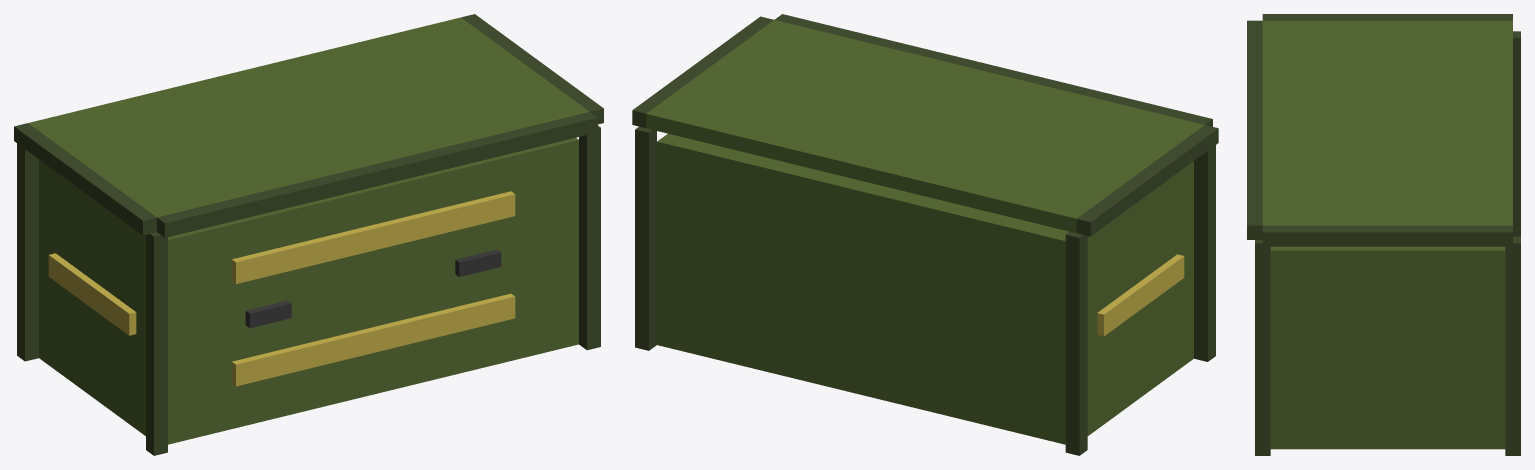
Rendered from ammo-crate.glb.
The picture shows the model from 3 angles, left to right: view 1: azimuth 30°, elevation 25°; view 2: azimuth 150°, elevation 25°; view 3: azimuth 270°, elevation 25°; orthographic projection. The views are drawn at different scales.
Visible parts, largest first — view 1: Mesh_Crate, Mesh_LidMesh, Mesh_LidEdgeFront, Mesh_MarkingTop, Mesh_MarkingBottom, Mesh_ReinforcementFL, Mesh_ReinforcementFR, Mesh_ReinforcementBL, Mesh_LidEdgeLeft, Mesh_MarkingSideLeft, Mesh_LidEdgeRight, Mesh_ClaspRight (+1 smaller); view 2: Mesh_Crate, Mesh_LidMesh, Mesh_ReinforcementBL, Mesh_ReinforcementBR, Mesh_ReinforcementFL, Mesh_LidEdgeLeft, Mesh_LidEdgeFront, Mesh_MarkingSideLeft, Mesh_LidEdgeRight; view 3: Mesh_LidMesh, Mesh_Crate, Mesh_LidEdgeRight, Mesh_LidEdgeFront, Mesh_ReinforcementBR, Mesh_ReinforcementFR, Mesh_LidEdgeLeft, Mesh_ReinforcementBL.
Part boxes in pixels (x1,y1,x2,y2): Mesh_Crate: (39, 138, 578, 444); Mesh_LidMesh: (28, 17, 589, 217); Mesh_LidEdgeFront: (157, 112, 597, 237); Mesh_MarkingTop: (231, 191, 515, 283); Mesh_MarkingBottom: (231, 293, 515, 386); Mesh_ReinforcementFL: (146, 232, 167, 455); Mesh_ReinforcementFR: (579, 126, 600, 350); Mesh_ReinforcementBL: (17, 143, 38, 361); Mesh_LidEdgeLeft: (14, 123, 156, 235); Mesh_MarkingSideLeft: (48, 253, 136, 335); Mesh_LidEdgeRight: (461, 14, 603, 124); Mesh_ClaspRight: (455, 249, 501, 276); Mesh_Crate: (657, 133, 1193, 444); Mesh_LidMesh: (646, 20, 1204, 233); Mesh_ReinforcementBL: (1065, 231, 1087, 455); Mesh_ReinforcementBR: (635, 126, 656, 350); Mesh_ReinforcementFL: (1194, 145, 1215, 361); Mesh_LidEdgeLeft: (1076, 125, 1218, 236); Mesh_LidEdgeFront: (774, 14, 1212, 126); Mesh_MarkingSideLeft: (1097, 254, 1184, 336); Mesh_LidEdgeRight: (632, 16, 773, 128); Mesh_LidMesh: (1262, 20, 1512, 225); Mesh_Crate: (1270, 246, 1505, 449); Mesh_LidEdgeRight: (1262, 225, 1512, 246); Mesh_LidEdgeFront: (1247, 20, 1262, 239); Mesh_ReinforcementBR: (1505, 236, 1520, 455); Mesh_ReinforcementFR: (1255, 240, 1270, 455); Mesh_LidEdgeLeft: (1262, 14, 1512, 20); Mesh_ReinforcementBL: (1513, 31, 1520, 236).
Bounding box in the file's own units: 0.66 × 0.32 × 0.35.
